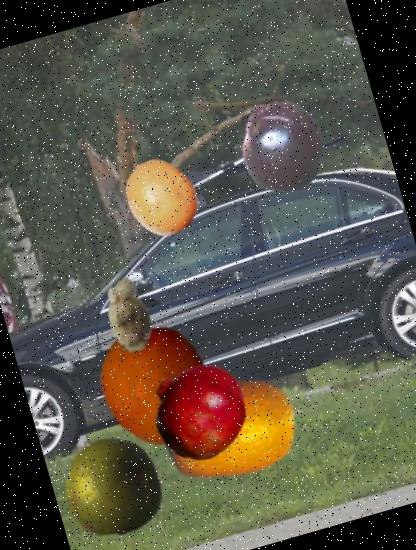Apricot: (81, 310, 233, 462)
Ginger: (81, 268, 176, 363)
Kumquats: (145, 344, 314, 513)
Lemon: (111, 148, 209, 246)
Passion: (225, 87, 341, 204)
Pomegranate: (139, 350, 258, 470)
Pomelo: (52, 423, 176, 548)
